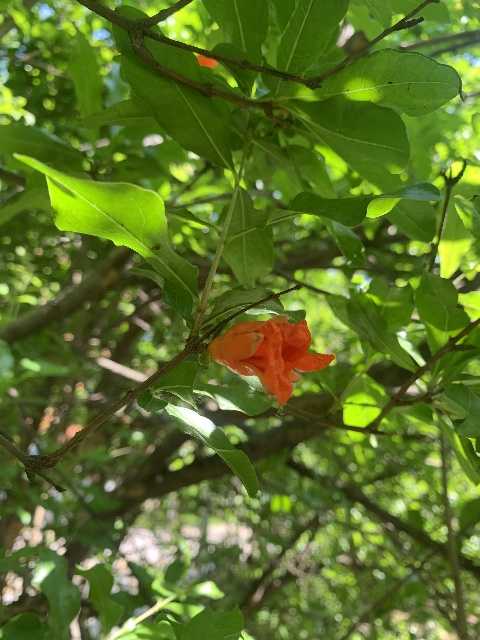flower: (206, 314, 334, 405)
